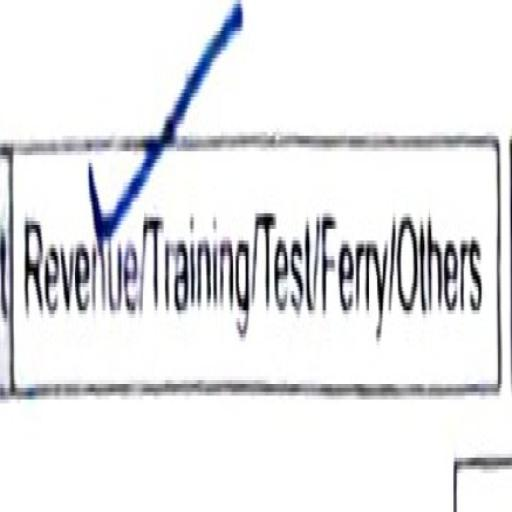check: (9, 52, 142, 398)
